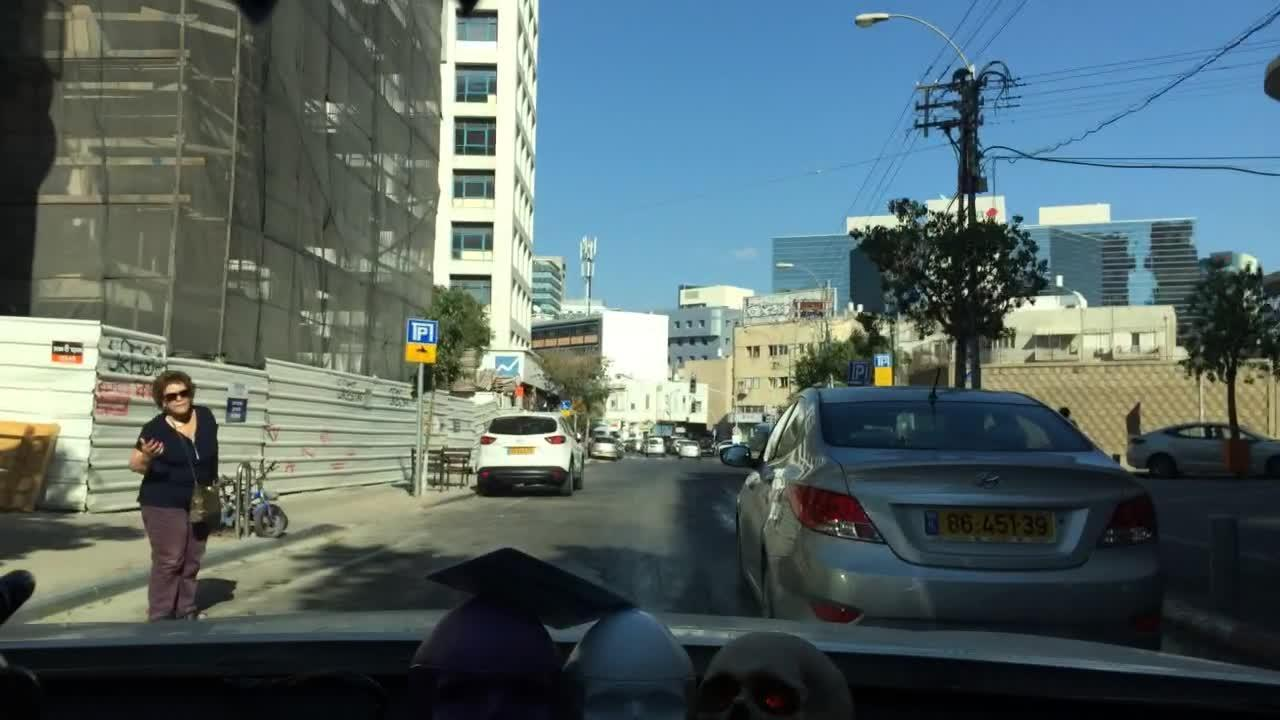Hyundai: (964, 461, 1011, 497)
